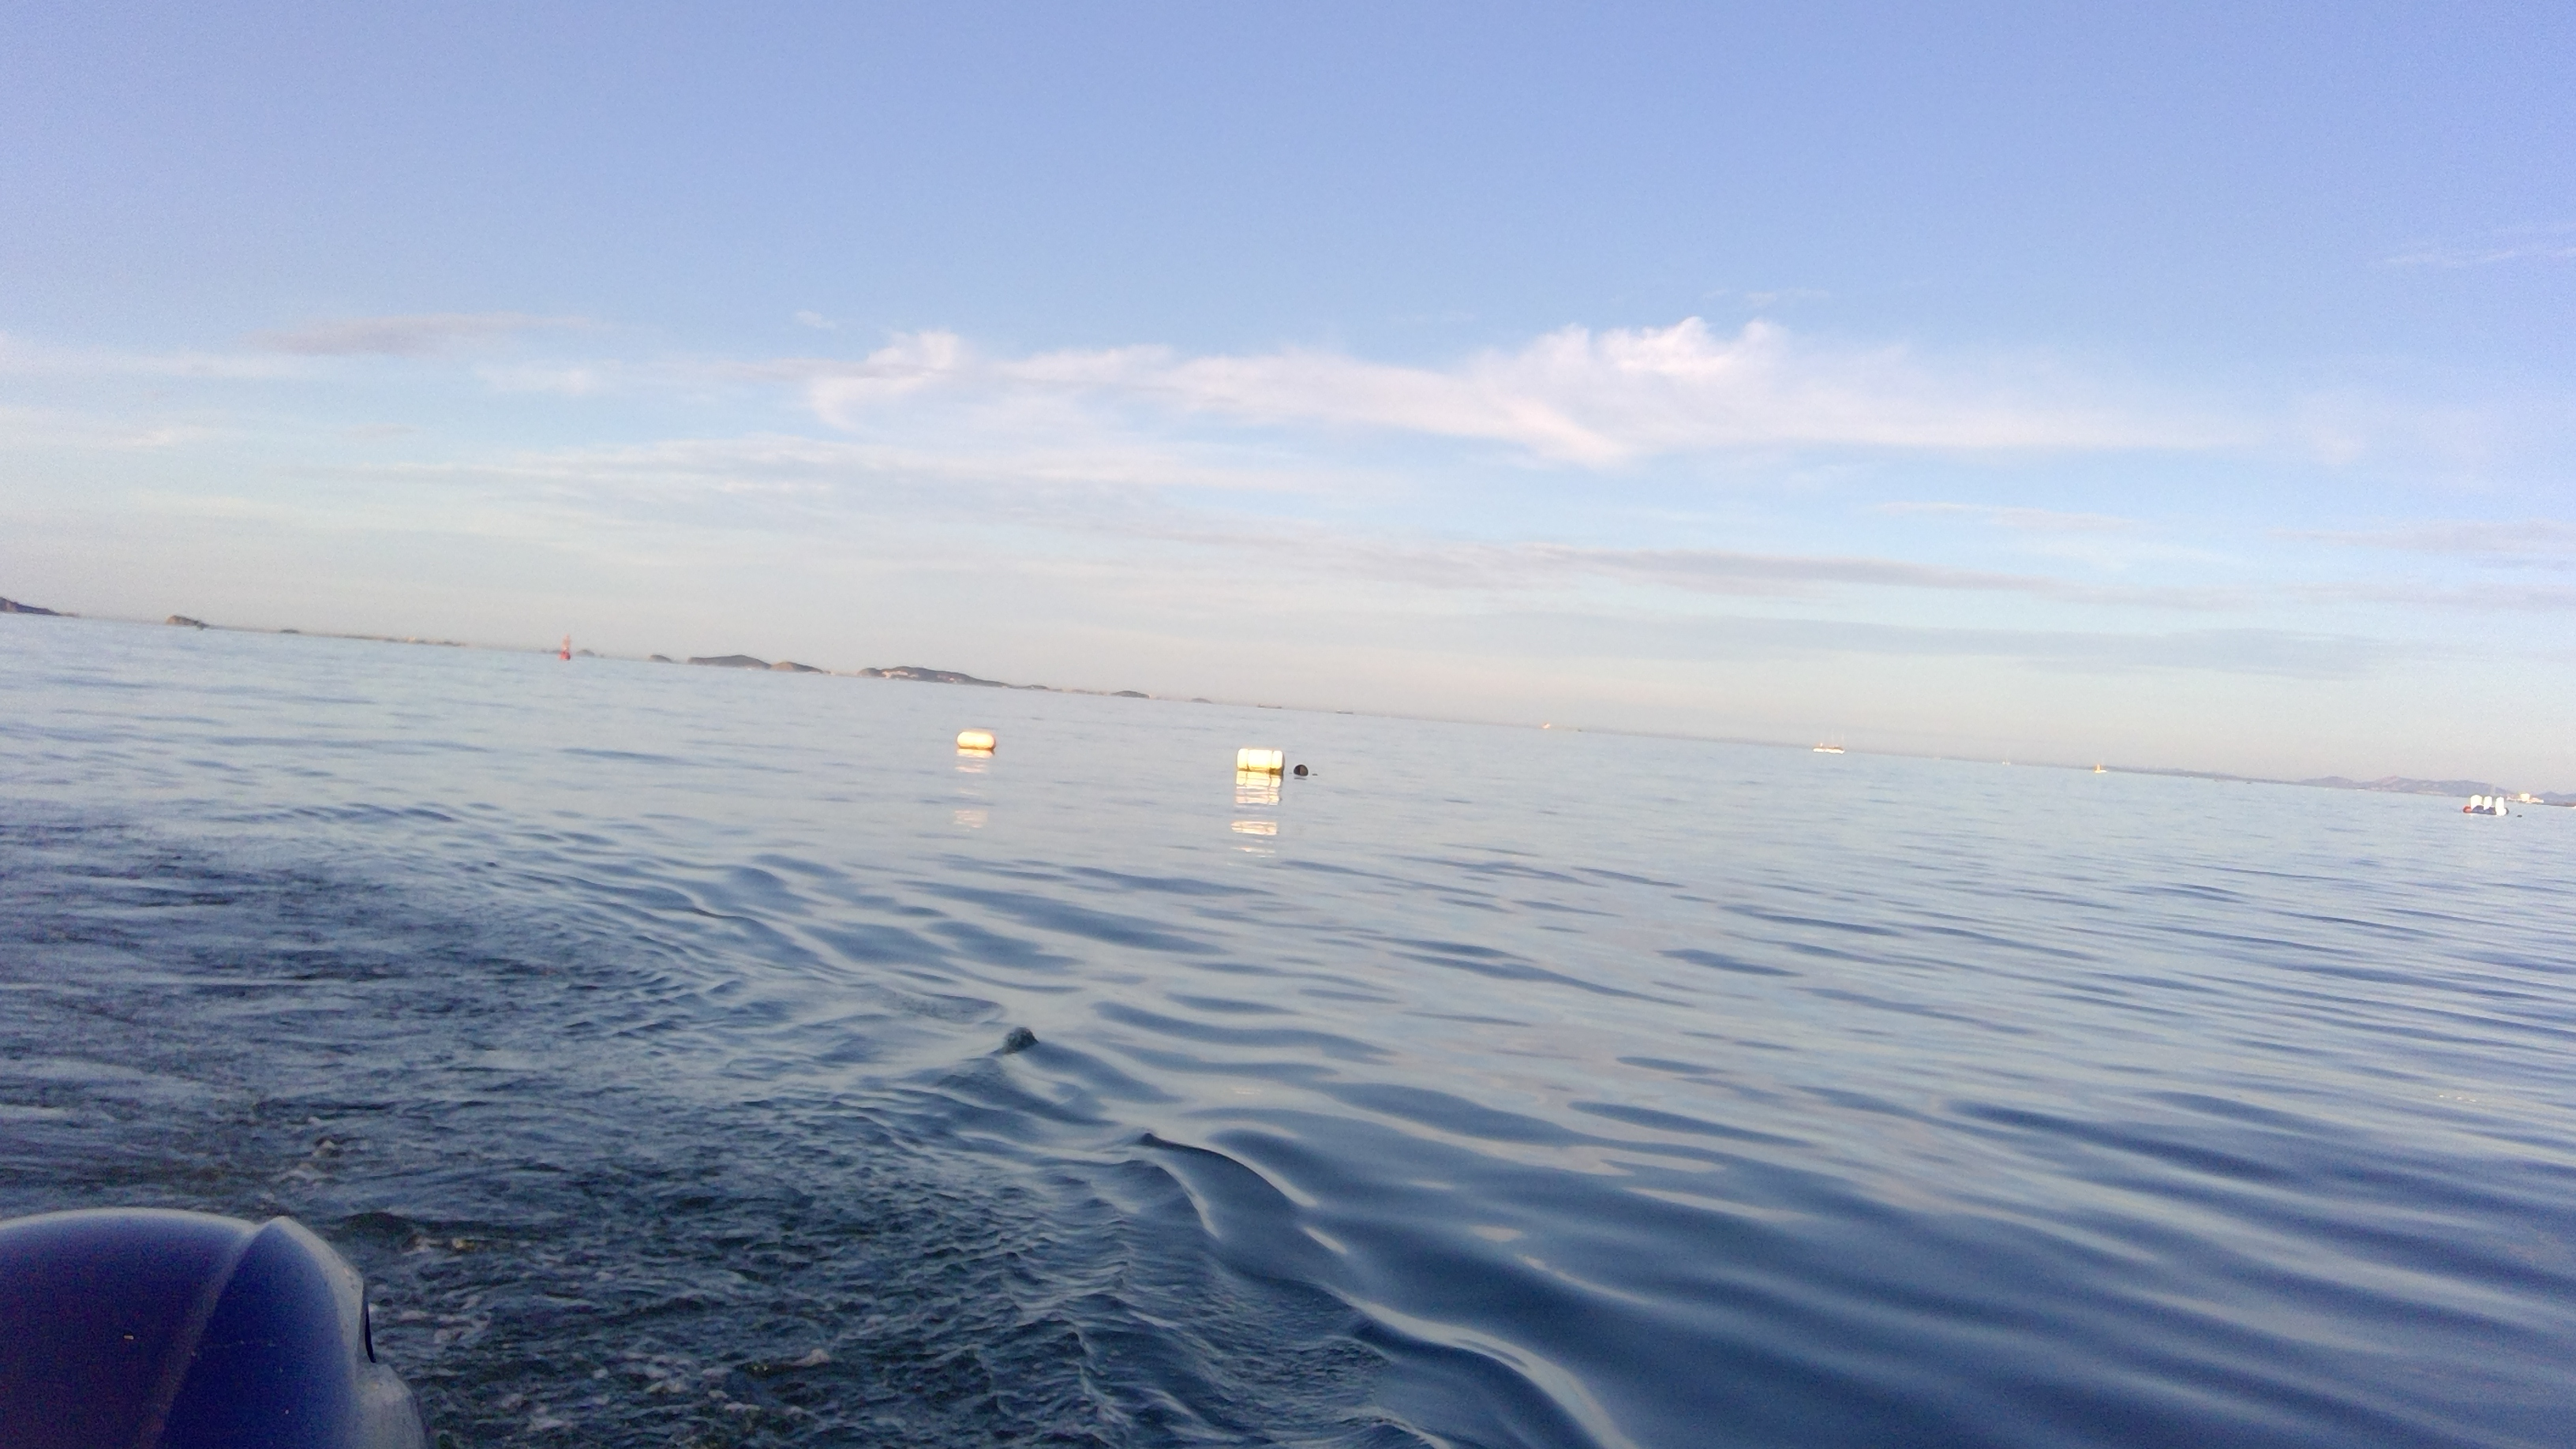ship: (1242, 741, 1306, 787), (947, 722, 1005, 768)
